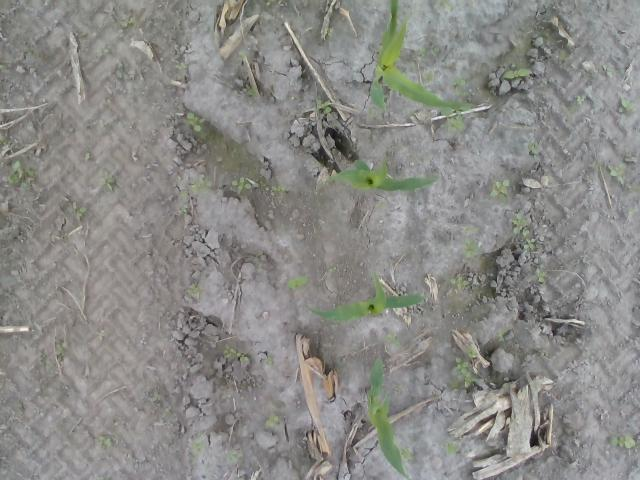Maize: (369, 0, 476, 114), (304, 272, 427, 323), (366, 356, 414, 480), (325, 158, 439, 193)
Weeds: (448, 345, 480, 390), (511, 207, 536, 251), (1, 158, 37, 188), (440, 107, 472, 134), (592, 160, 625, 185), (489, 176, 511, 202), (223, 344, 250, 364), (462, 238, 482, 264), (501, 62, 528, 79), (191, 432, 206, 462), (608, 434, 640, 448), (38, 352, 56, 376), (450, 78, 472, 97), (231, 175, 253, 193), (260, 179, 288, 193), (286, 274, 312, 288), (96, 174, 116, 192), (186, 112, 204, 132), (312, 96, 333, 113), (264, 414, 282, 433), (448, 276, 471, 290), (440, 439, 458, 456), (190, 176, 208, 193), (383, 332, 401, 348), (398, 446, 414, 463), (225, 447, 242, 463), (188, 283, 205, 299), (618, 95, 634, 112), (402, 54, 418, 70), (72, 206, 88, 222), (55, 335, 65, 359), (96, 435, 113, 449), (496, 327, 510, 343), (438, 0, 454, 12), (266, 0, 288, 8), (245, 85, 258, 98), (602, 64, 614, 78), (535, 268, 545, 284), (558, 48, 570, 61), (96, 48, 114, 56), (422, 70, 434, 82), (324, 28, 336, 40), (113, 416, 126, 427), (392, 383, 405, 394), (0, 135, 13, 145), (536, 30, 550, 38), (245, 0, 252, 16), (221, 390, 232, 400), (122, 63, 128, 80), (464, 226, 481, 232), (178, 204, 188, 214), (264, 356, 274, 366), (175, 63, 189, 70), (527, 143, 537, 152), (576, 95, 586, 104), (430, 46, 439, 56), (24, 48, 35, 56), (418, 47, 426, 57), (128, 16, 136, 26), (327, 265, 337, 273), (311, 160, 320, 168), (96, 329, 105, 337), (0, 64, 8, 72), (368, 107, 374, 114)
